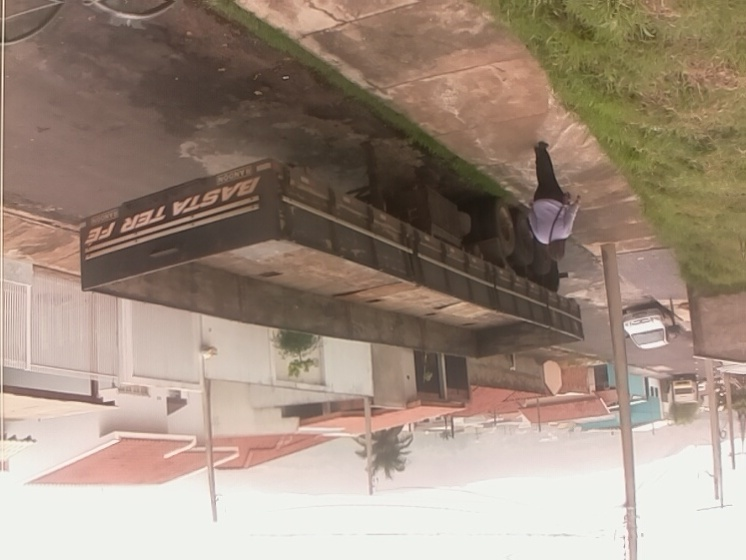person: (526, 142, 584, 262)
